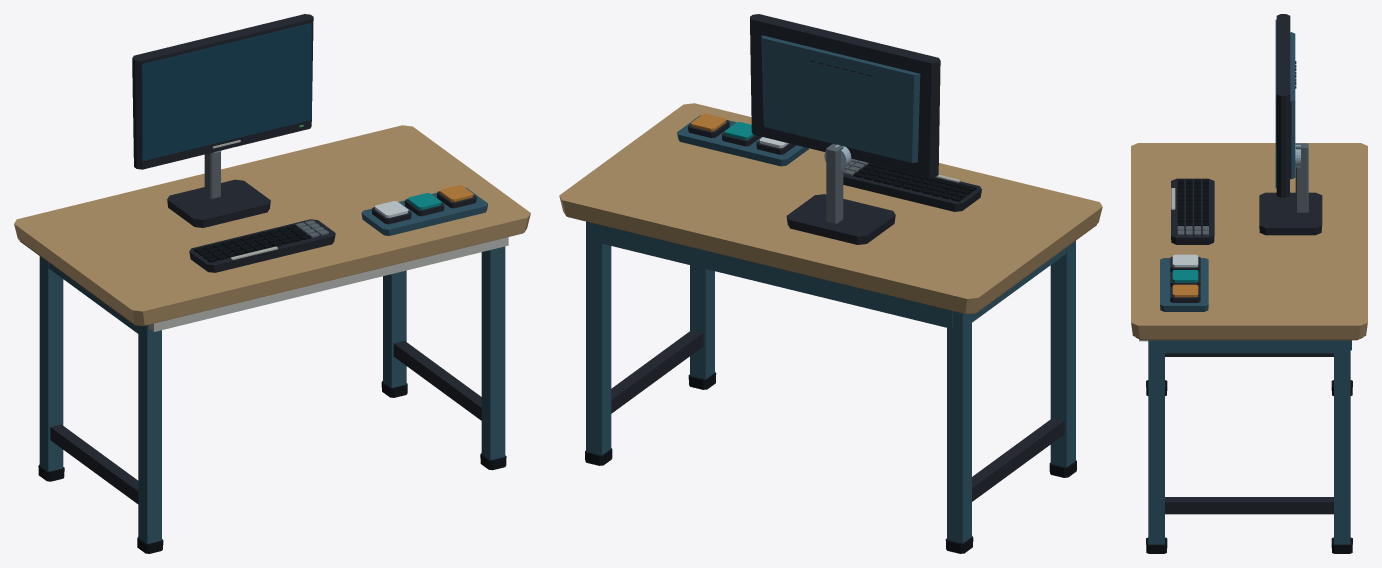
Rendered from waypoint-console.glb.
3 renders of one model, left to right at view 1: azimuth 30°, elevation 25°; view 2: azimuth 150°, elevation 25°; view 3: azimuth 270°, elevation 25°, orthographic. The views are drawn at different scales.
Visible parts, largest first — view 1: desk, desk_frame, display, keypad, monitor_stand, control_base, key_next, key_reset, key_previous; view 2: desk, desk_frame, display, monitor_stand, keypad, control_base, key_reset; view 3: desk, desk_frame, display, monitor_stand, keypad, control_base, key_reset, key_previous, key_next.
Part boxes in pixels (x1,y1,x2,y2): desk: [14, 125, 530, 326]; desk_frame: [38, 237, 508, 553]; display: [132, 14, 313, 169]; keypad: [189, 219, 335, 272]; monitor_stand: [167, 150, 270, 227]; control_base: [361, 187, 487, 235]; key_next: [404, 193, 444, 216]; key_reset: [437, 185, 476, 208]; key_previous: [372, 201, 411, 224]; desk: [559, 103, 1102, 314]; desk_frame: [585, 221, 1076, 553]; display: [750, 14, 940, 177]; monitor_stand: [786, 144, 895, 244]; keypad: [843, 158, 981, 211]; control_base: [677, 115, 808, 166]; key_reset: [688, 113, 729, 138]; desk: [1131, 143, 1367, 340]; desk_frame: [1139, 339, 1352, 553]; display: [1275, 14, 1296, 197]; monitor_stand: [1259, 143, 1322, 235]; keypad: [1171, 178, 1214, 244]; control_base: [1160, 258, 1208, 311]; key_reset: [1170, 284, 1200, 302]; key_previous: [1170, 254, 1200, 271]; key_next: [1170, 270, 1200, 286].
Size of the model in its own units: 1.25 by 1.28 by 0.684.
